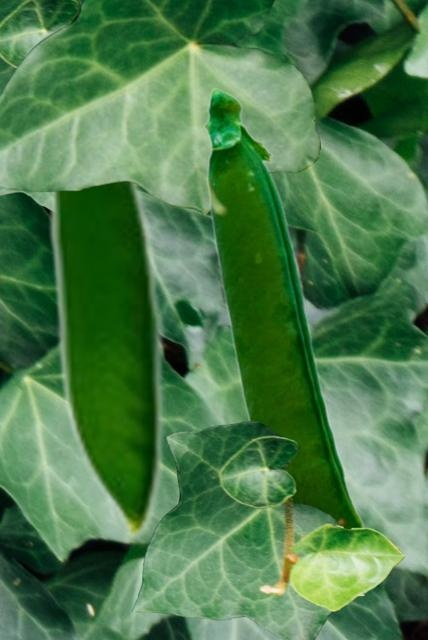pea: (24, 19, 165, 548), (203, 86, 363, 527), (42, 196, 155, 524)
